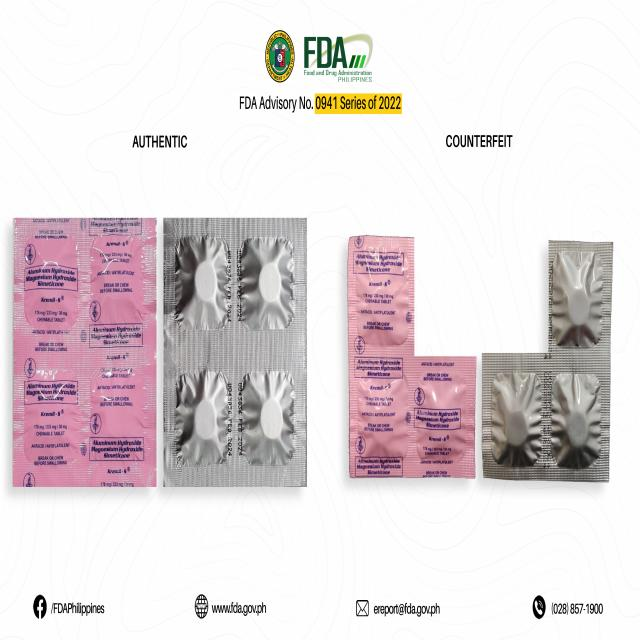authentic: (163, 215, 309, 488), (12, 213, 156, 487)
counterfeit: (350, 234, 478, 478), (483, 236, 603, 476)
